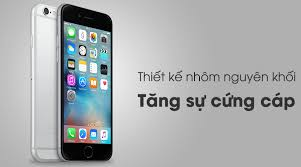iphone: (56, 2, 114, 165)
iphone6: (54, 1, 112, 163)
